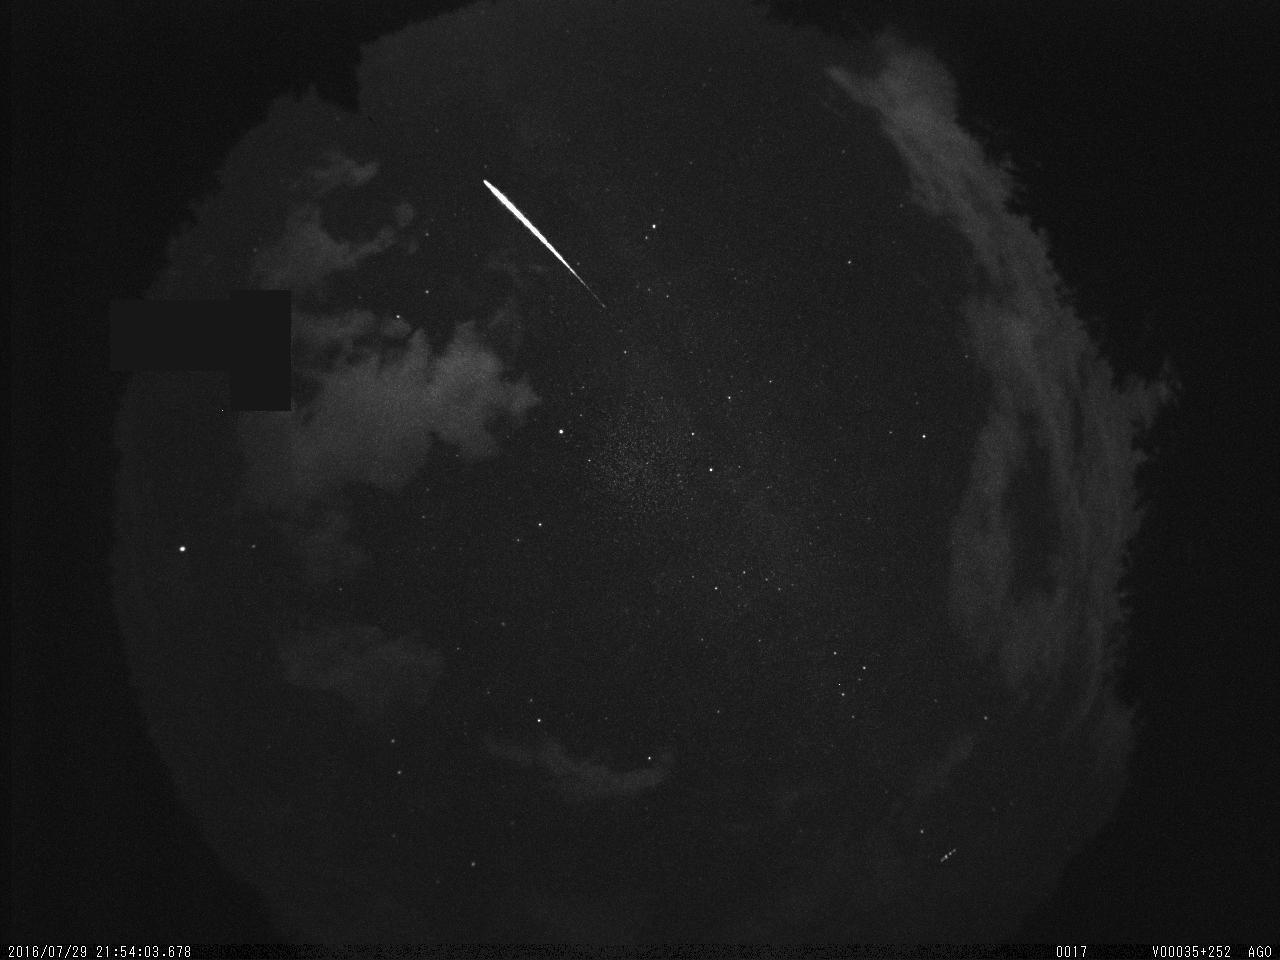meteor: (476, 173, 615, 316)
